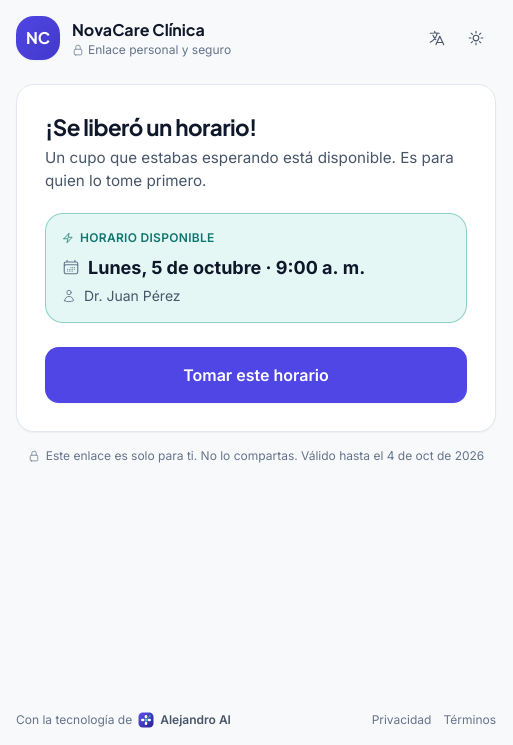
Test: ActionPage (/a/:token) › handles a waitlist slot taken by someone else
The width and height of the screenshot is (513, 745).
Click the button "Tomar este horario".
click(256, 375)  # box [45, 347, 467, 403]
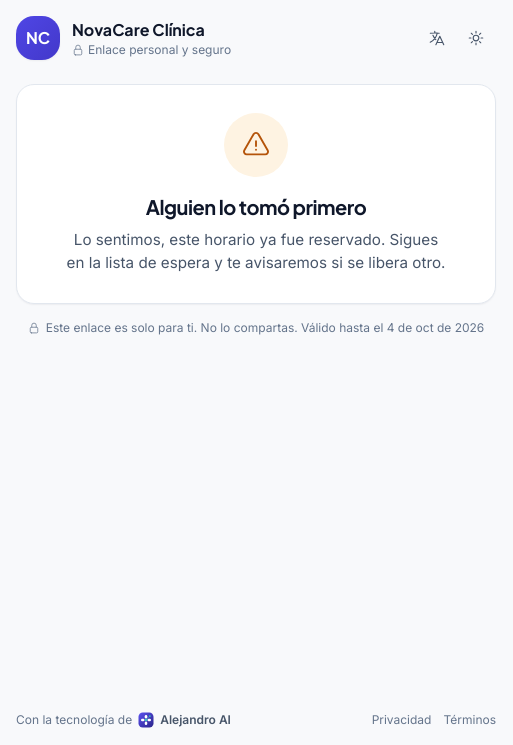
Expected: the heading "Alguien lo tomó primero" is shown, [146, 193, 366, 221]
